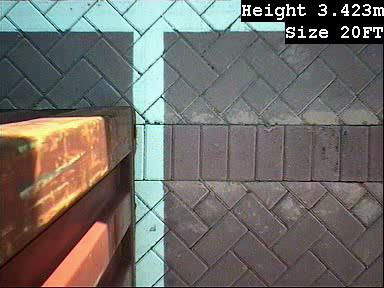groundmarker_2: (20, 145, 75, 279)
